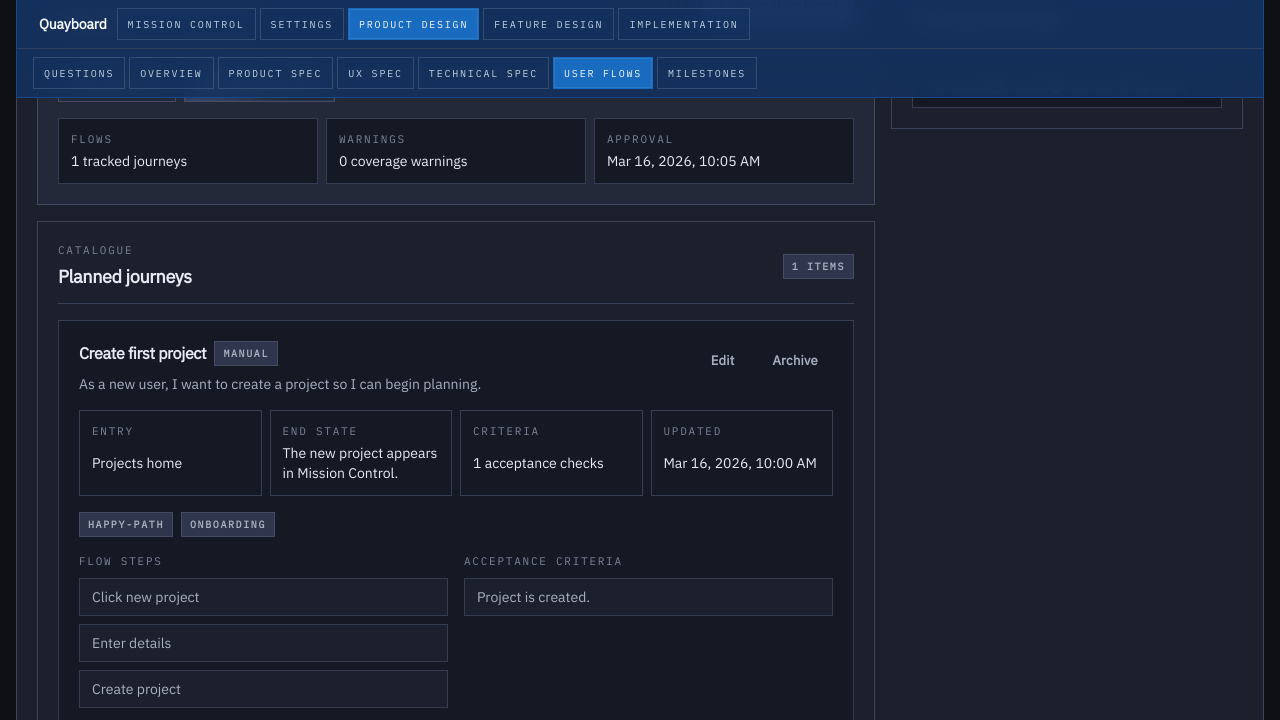
Test: workflow pages › archives a user flow from the active catalogue
(page scrolled)
Check: the text "Create first project" is shown, box [79,341,206,365]
Click the button "Archive" at (795, 361), box [758,341,833,381]
(page scrolled)
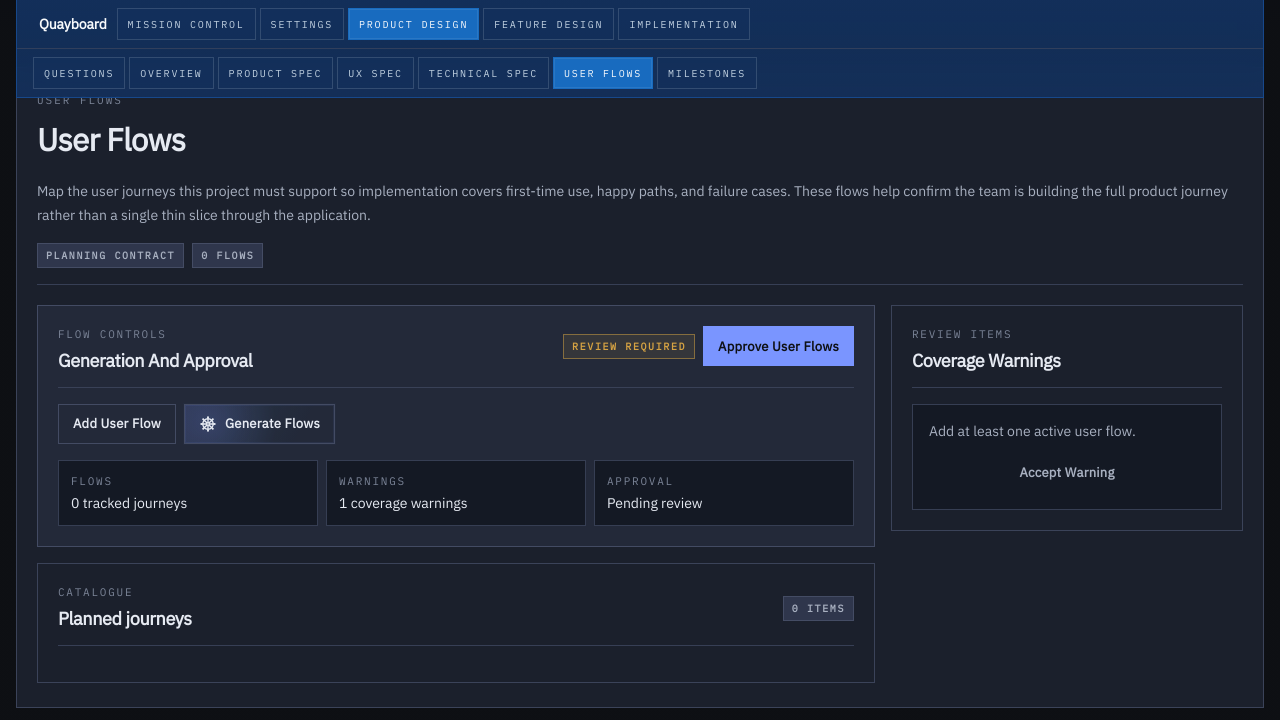
Check: the text "Create first project" is gone
Check: the text "0 items" is shown, box [783,596,854,621]
Check: the text "Pending review" is shown, box [607,494,702,512]
